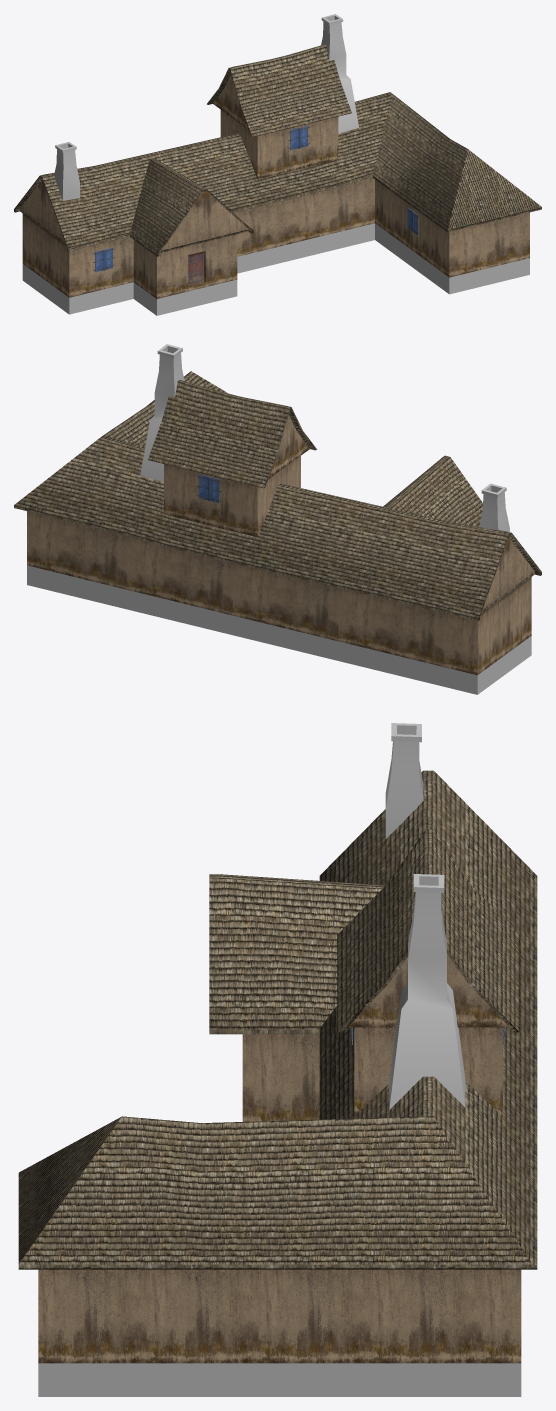
File: f1_house02_lod2.fbx
3 renders of one model, top to bottom at view 1: azimuth 30°, elevation 25°; view 2: azimuth 150°, elevation 25°; view 3: azimuth 270°, elevation 25°, orthographic. The views are drawn at different scales.
Parts seen in each view (by area): view 1: Mesh Object; view 2: Mesh Object; view 3: Mesh Object.
Boxes of the visible parts, x1,y1,x2,y2 form: Mesh Object: (14,14,541,315); Mesh Object: (14,344,541,694); Mesh Object: (18,723,537,1396).
Bounding box in the file's own units: 24.75 × 12.45 × 13.96.
